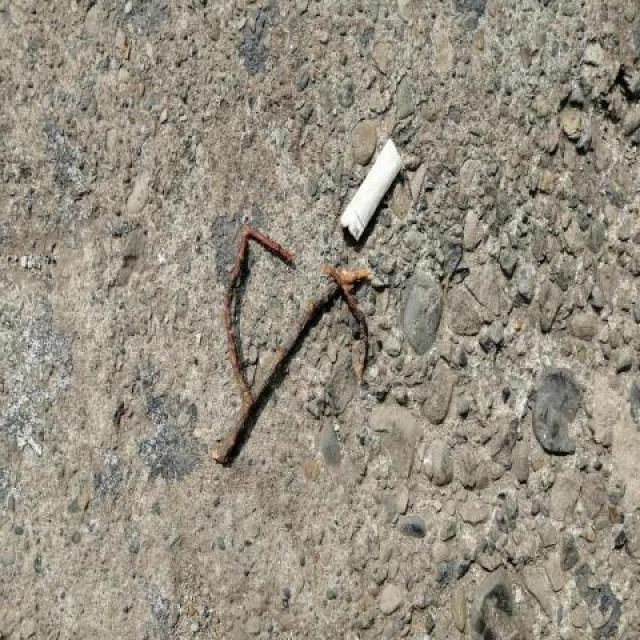non-organic waste: (339, 133, 405, 250)
